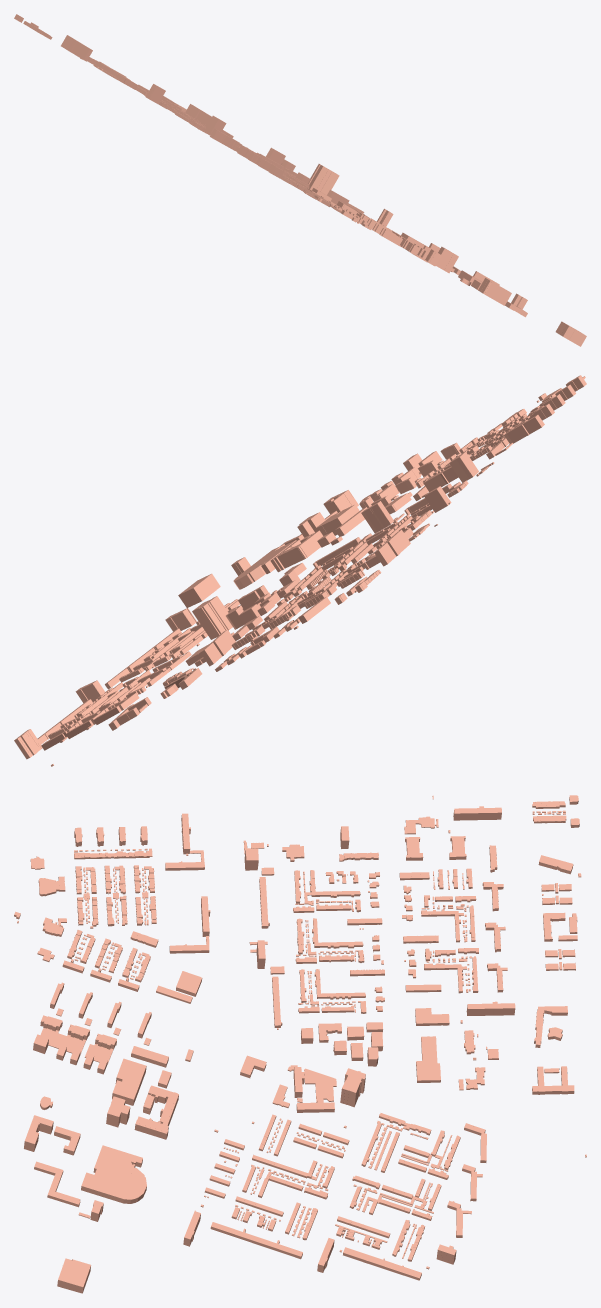
The picture shows the model from 3 angles, top to bottom: view 1: azimuth 30°, elevation 25°; view 2: azimuth 150°, elevation 25°; view 3: azimuth 270°, elevation 25°; orthographic projection. The views are drawn at different scales.
Bounding box in the file's own units: 985 × 686 × 1179.
